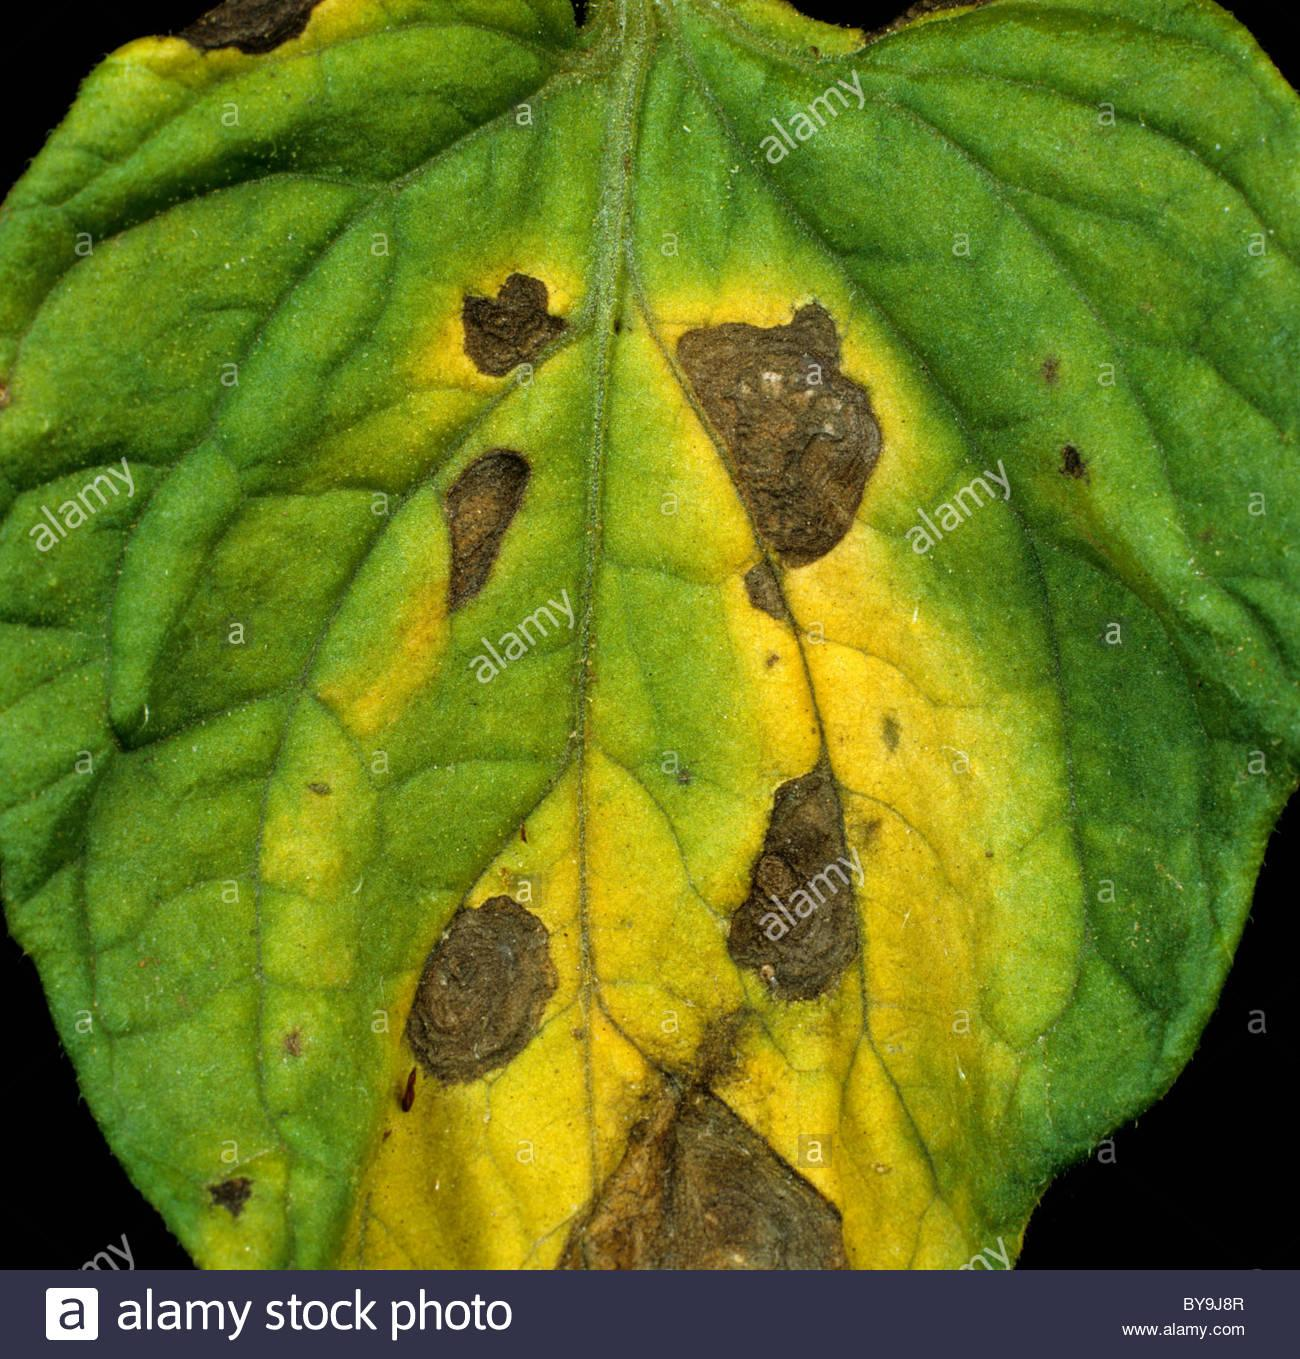Tomato Early blight leaf: (49, 28, 1275, 1258)
